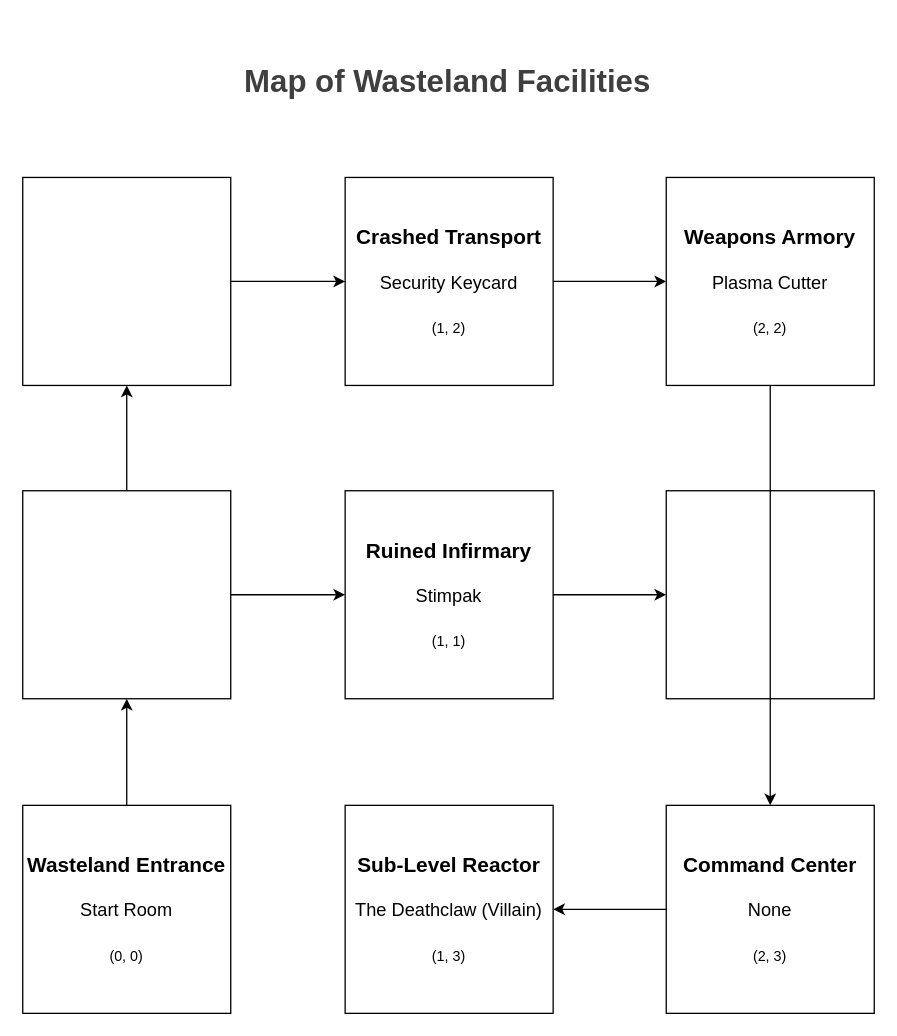
The diagram is 897 pixels wide and 1036 high, and some of its shapes have lost their labels. The box of each missing label's shape, as (x1, y1, x2, y2) in pixels:
Abandoned Outpost Geiger Counter (0, 1): (21, 489, 231, 699)
Guard Shack Solar Cell (0, 2): (21, 176, 231, 385)
Overgrown Greenhouse Water Purifier (2, 1): (665, 489, 874, 699)
